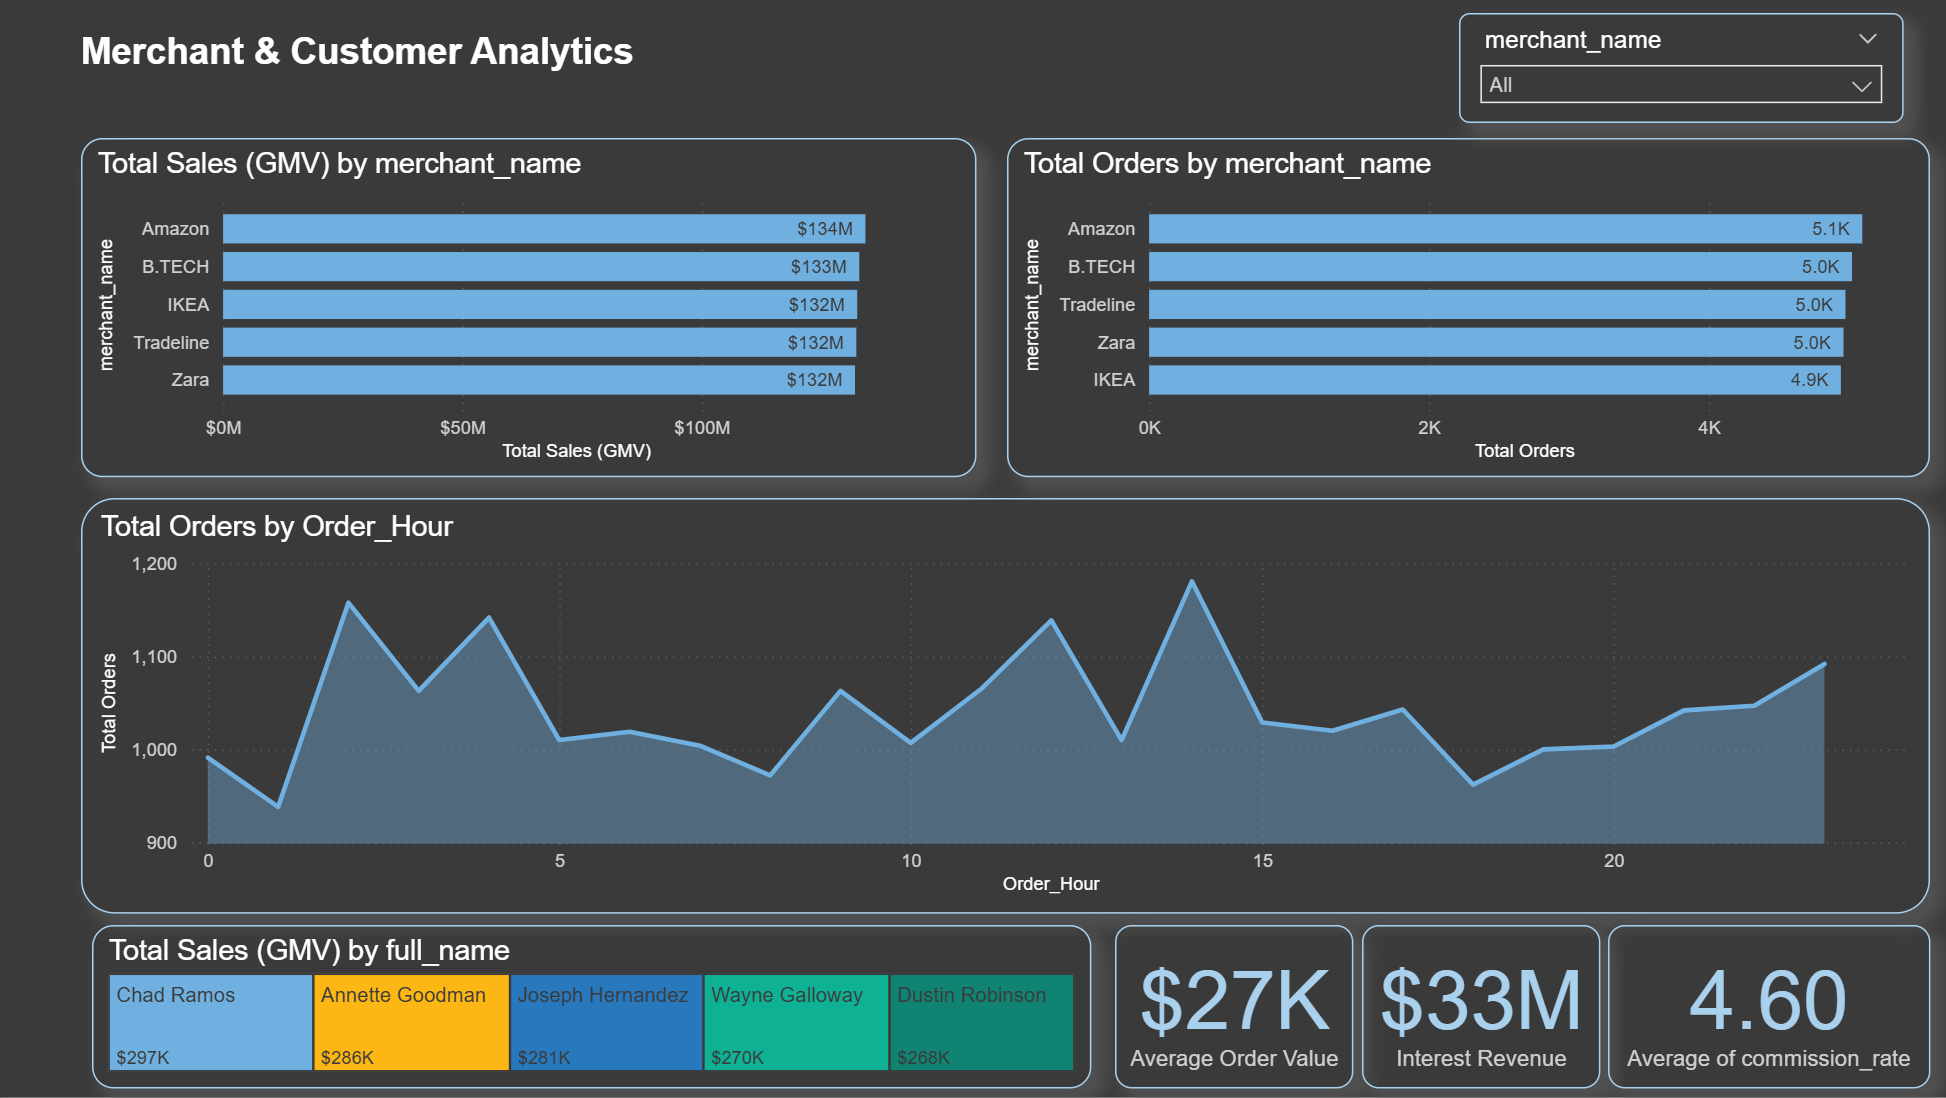

This screenshot's page, from the dashboard's own definition file:
{"tool":"powerbi","page":{"name":"Merchant & Customer Analytics","canvas":[1280,720],"ordinal":1},"visuals":[{"type":"textbox","box":[49.1,17,416.2,39.3],"z":0},{"type":"clusteredBarChart","fields":{"Category":["dw dim_merchants.merchant_name"],"Y":["_KPIs_Measures.Total Sales (GMV)"]},"box":[54.3,92.3,585.7,222.5],"z":1000},{"type":"clusteredBarChart","fields":{"Category":["dw dim_merchants.merchant_name"],"Y":["_KPIs_Measures.Total Orders"]},"box":[660.3,92.3,604,222.5],"z":2000},{"type":"areaChart","fields":{"Y":["_KPIs_Measures.Total Orders"],"Category":["dw fact_orders.Order_Hour"]},"box":[54.3,327.9,1210,272.2],"z":3000},{"type":"slicer","fields":{"Values":["dw dim_merchants.merchant_name"]},"box":[956.1,10.5,290.6,72],"z":4000},{"type":"treemap","fields":{"Group":["dw dim_customers.full_name"],"Values":["_KPIs_Measures.Total Sales (GMV)"]},"box":[61.5,607.3,653.7,106.7],"z":4001},{"type":"card","fields":{"Values":["_KPIs_Measures.Average Order Value"]},"box":[731,607.3,156.4,106.7],"z":4002},{"type":"card","fields":{"Values":["_KPIs_Measures.Interest Revenue"]},"box":[892.6,607.3,156.4,106.7],"z":4003},{"type":"card","fields":{"Values":["Avg(dw dim_merchants.commission_rate)"]},"box":[1053.6,607.3,210.7,106.7],"z":4004}]}

Visuals, with their boxes in screenshot pixels (x1, y1, x2, y2), scaled from the page's 1280x720 canvas onto the 1946x1098 screenshot:
textbox: detection(75, 26, 707, 86)
clusteredBarChart - dw dim_merchants.merchant_name x _KPIs_Measures.Total Sales (GMV): detection(83, 141, 973, 480)
clusteredBarChart - dw dim_merchants.merchant_name x _KPIs_Measures.Total Orders: detection(1004, 141, 1922, 480)
areaChart - _KPIs_Measures.Total Orders x dw fact_orders.Order_Hour: detection(83, 500, 1922, 915)
slicer - dw dim_merchants.merchant_name: detection(1454, 16, 1895, 126)
treemap - dw dim_customers.full_name x _KPIs_Measures.Total Sales (GMV): detection(93, 926, 1087, 1089)
card - _KPIs_Measures.Average Order Value: detection(1111, 926, 1349, 1089)
card - _KPIs_Measures.Interest Revenue: detection(1357, 926, 1595, 1089)
card - Avg(dw dim_merchants.commission_rate): detection(1602, 926, 1922, 1089)
